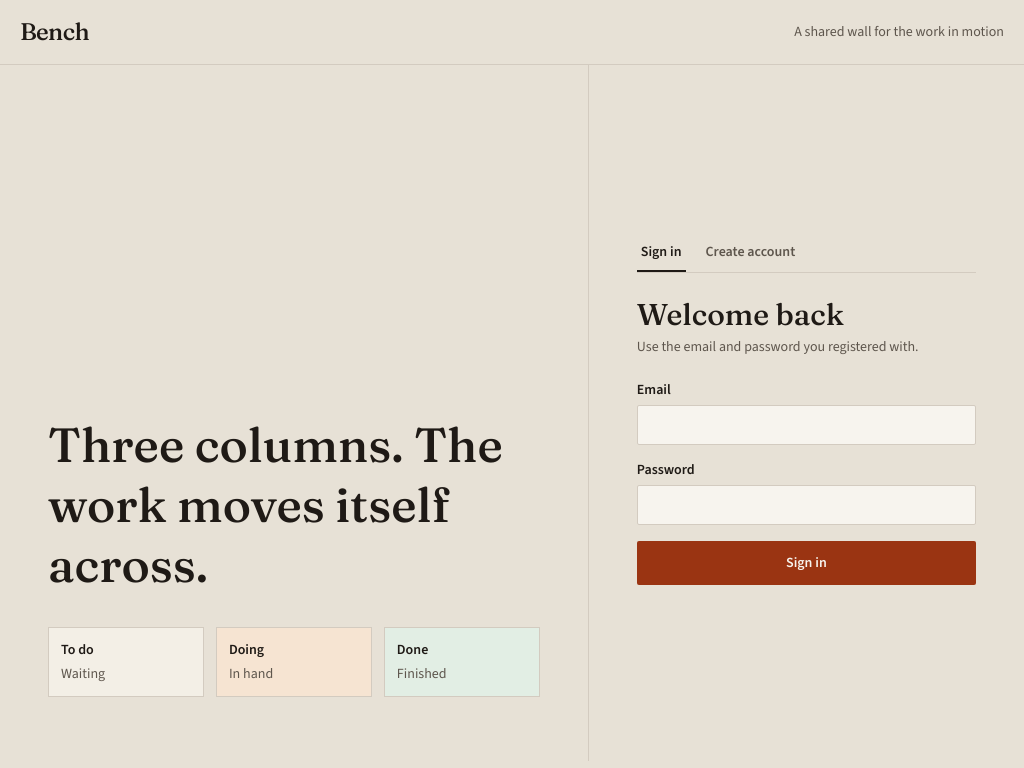
Test: AuthScreen › shows the server error
The image size is (1024, 768).
Type "ada@example.com" into the field labelled "Email" at (806, 424), box [637,404,976,444]
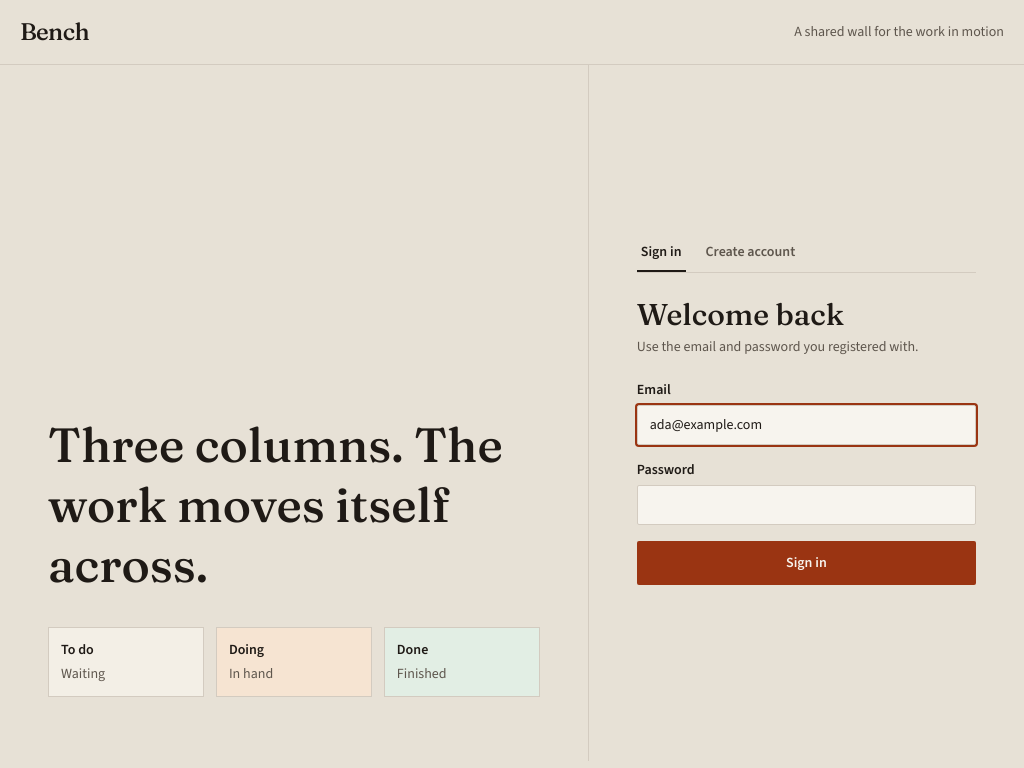
Type "password123" into the password field labelled "Password" at (806, 504), box [637,484,976,524]
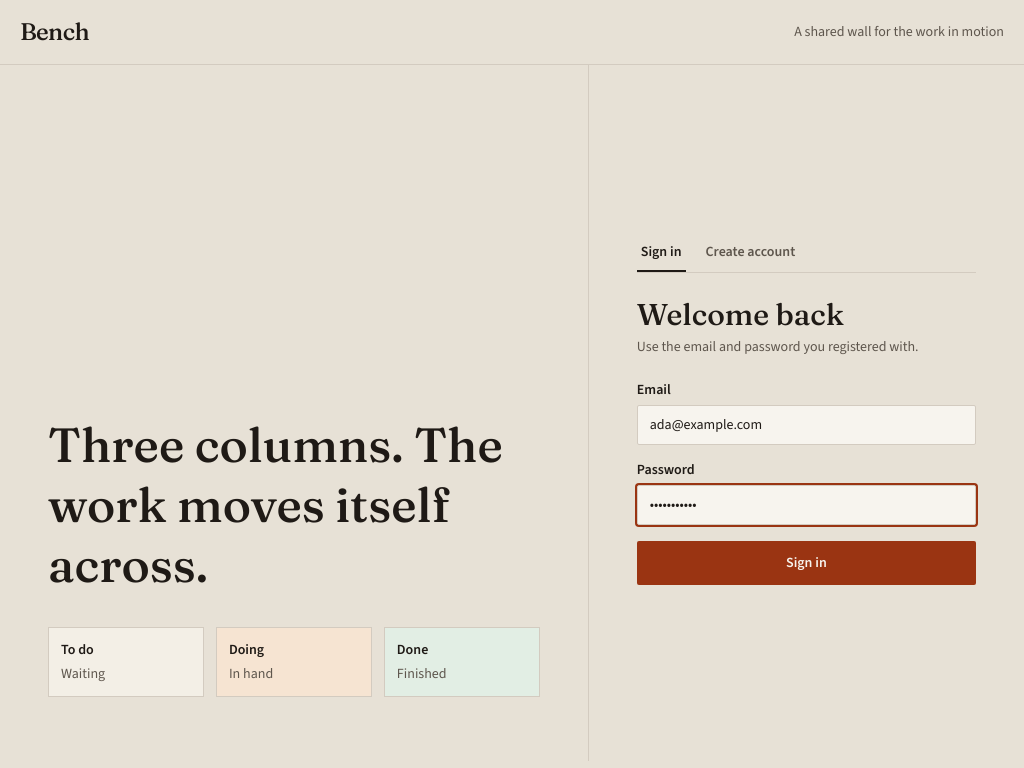
Click the button "Sign in" at (806, 562), box [637,540,976,584]
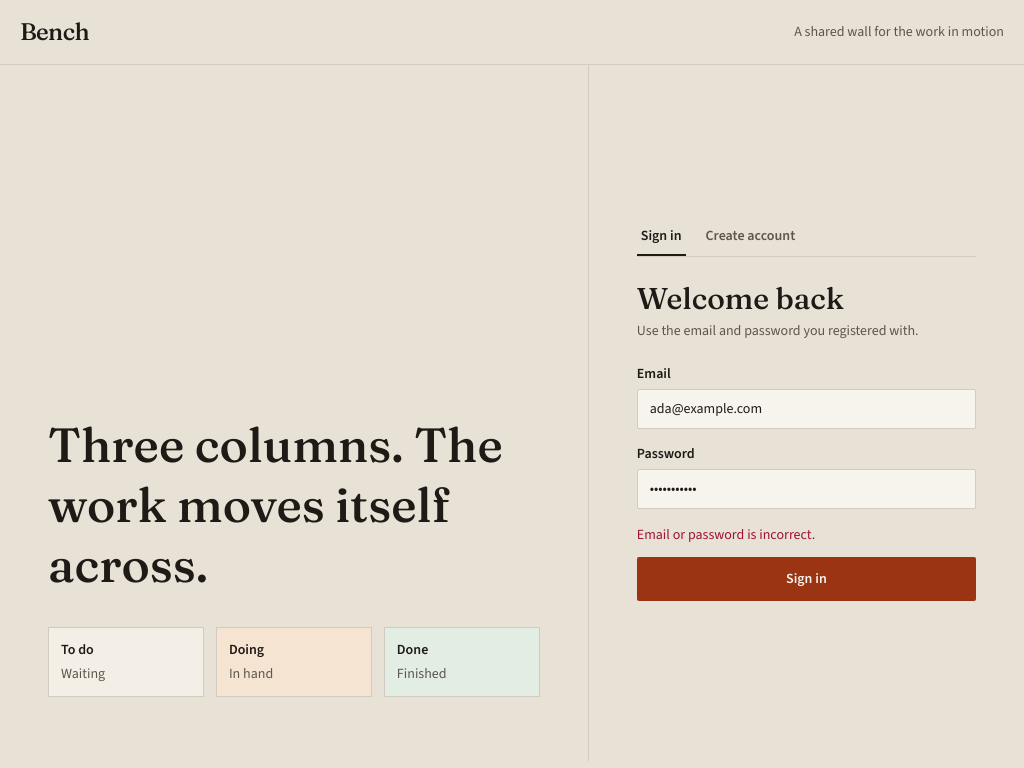
expect the message reads "Email or password is incorrect.": met, box [637,524,815,544]
